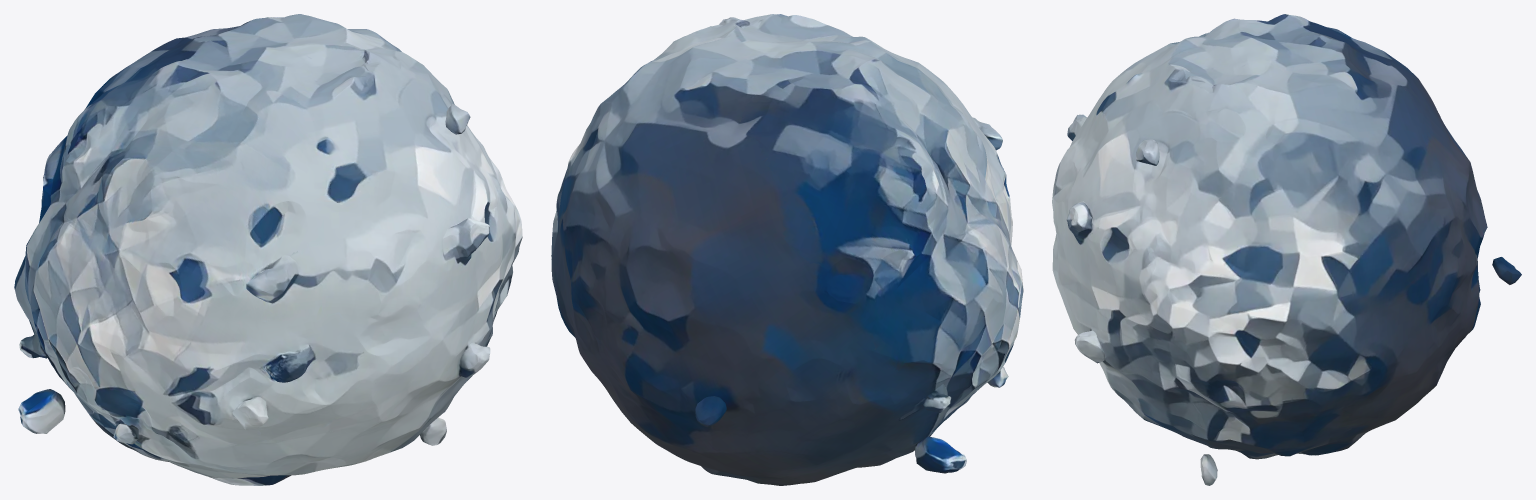
Rendered from white-plt.glb.
3 views of the same model, side by side, from view 1: azimuth 30°, elevation 25°; view 2: azimuth 150°, elevation 25°; view 3: azimuth 270°, elevation 25° (orthographic). The views are drawn at different scales.
Visible parts, largest first — view 1: model; view 2: model; view 3: model.
Boxes of the visible parts, bbox=[...] form: model: bbox=[14, 14, 522, 485]; model: bbox=[551, 14, 1023, 485]; model: bbox=[1052, 14, 1521, 485].
Bounding box in the file's own units: 1.78 × 1.61 × 1.76.
Materials: 1 (1 with a texture image).
